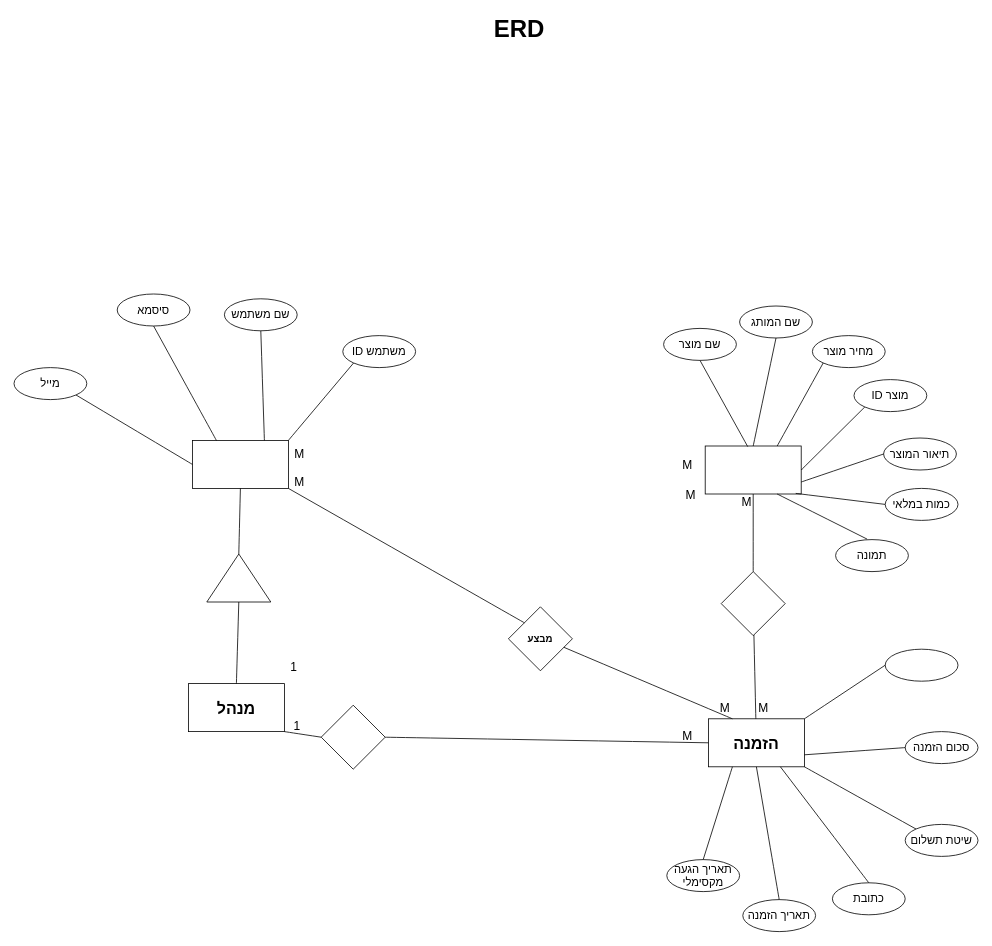
This 992x946 diagram has some shape labels left out. The shapes that lost their labels are listed below. From the top down, each one's centre as x and y in pixels, then its label:
At pixel 240 464: "משתמש".
At pixel 752 469: "מוצר".
At pixel 238 577: "isA".
At pixel 752 603: "מכילה כמות".
At pixel 921 664: "ID מספר הזמנה".
At pixel 352 736: "צופה\מבטל".
